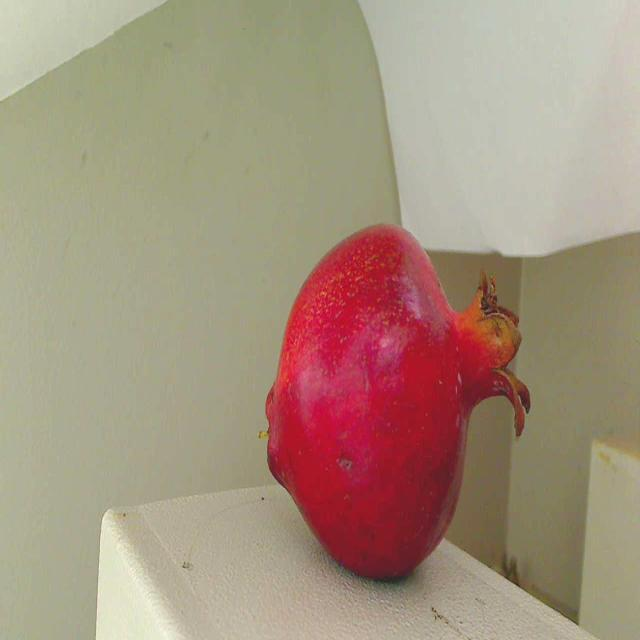pomegranate: (260, 202, 539, 588)
